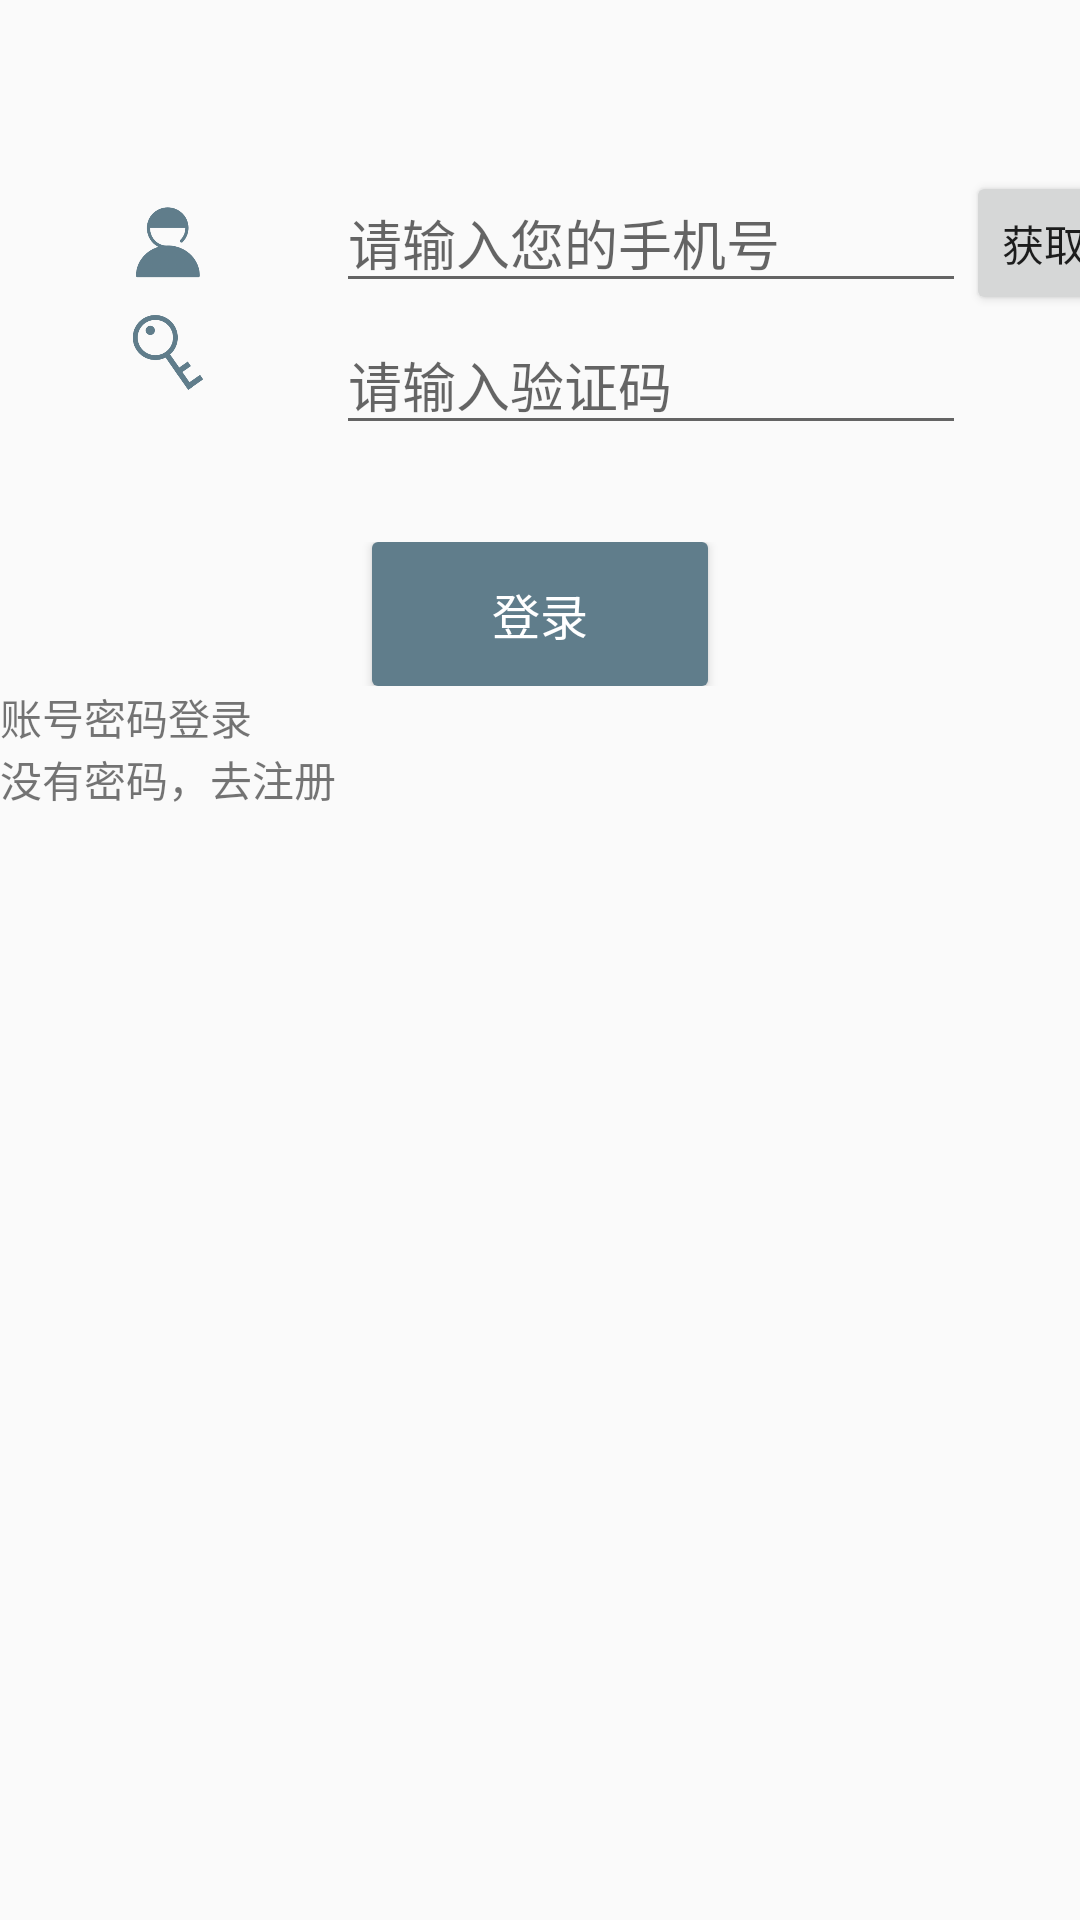

Point at icon controls on the screen. Image size 1080x1920, points as (x,y).
password: (168,352)
user: (168,242)
